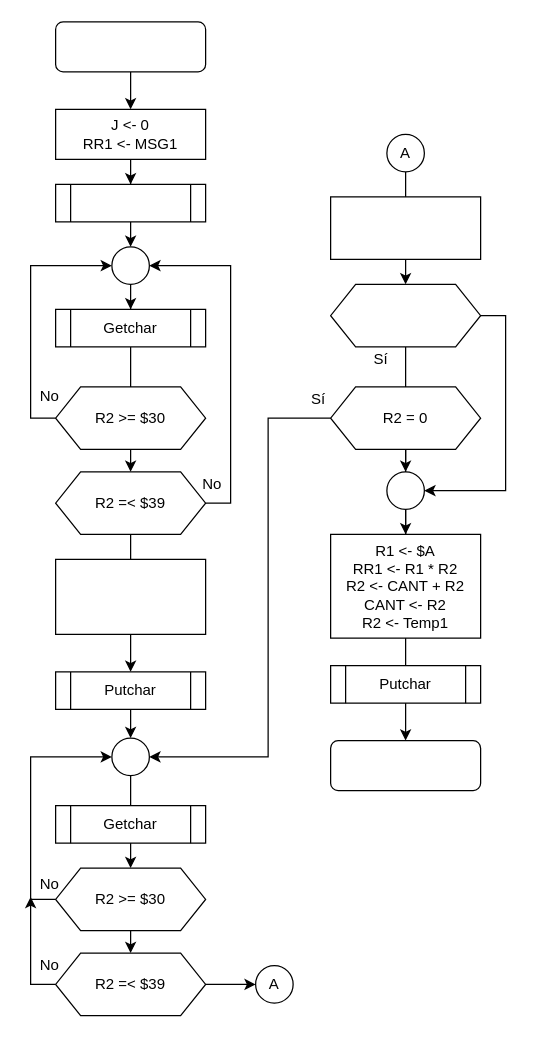
The diagram is 538 pixels wide and 1038 high, and some of its shapes have lost their labels. The centre of each missing label's shape, as x and y in pixels:
"CANT = 0" goes at [405,315].
"LEER_CANT" goes at [130,46].
"Printf" goes at [130,202].
"R2 <- R2 - $30 CANT <- R2 R2 <- R2 + $30" goes at [130,596].
"Retorno" goes at [405,765].
"Temp1 <- R2 R2 <- R2 - $30" goes at [405,227].
